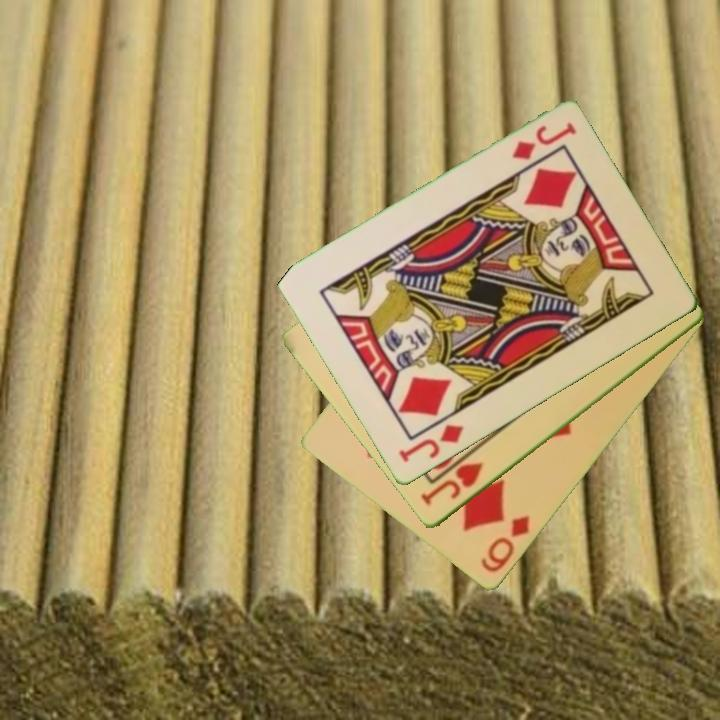6d: (477, 512, 534, 577)
Jd: (395, 421, 467, 467), (508, 118, 579, 164)
Jh: (417, 459, 486, 509)
